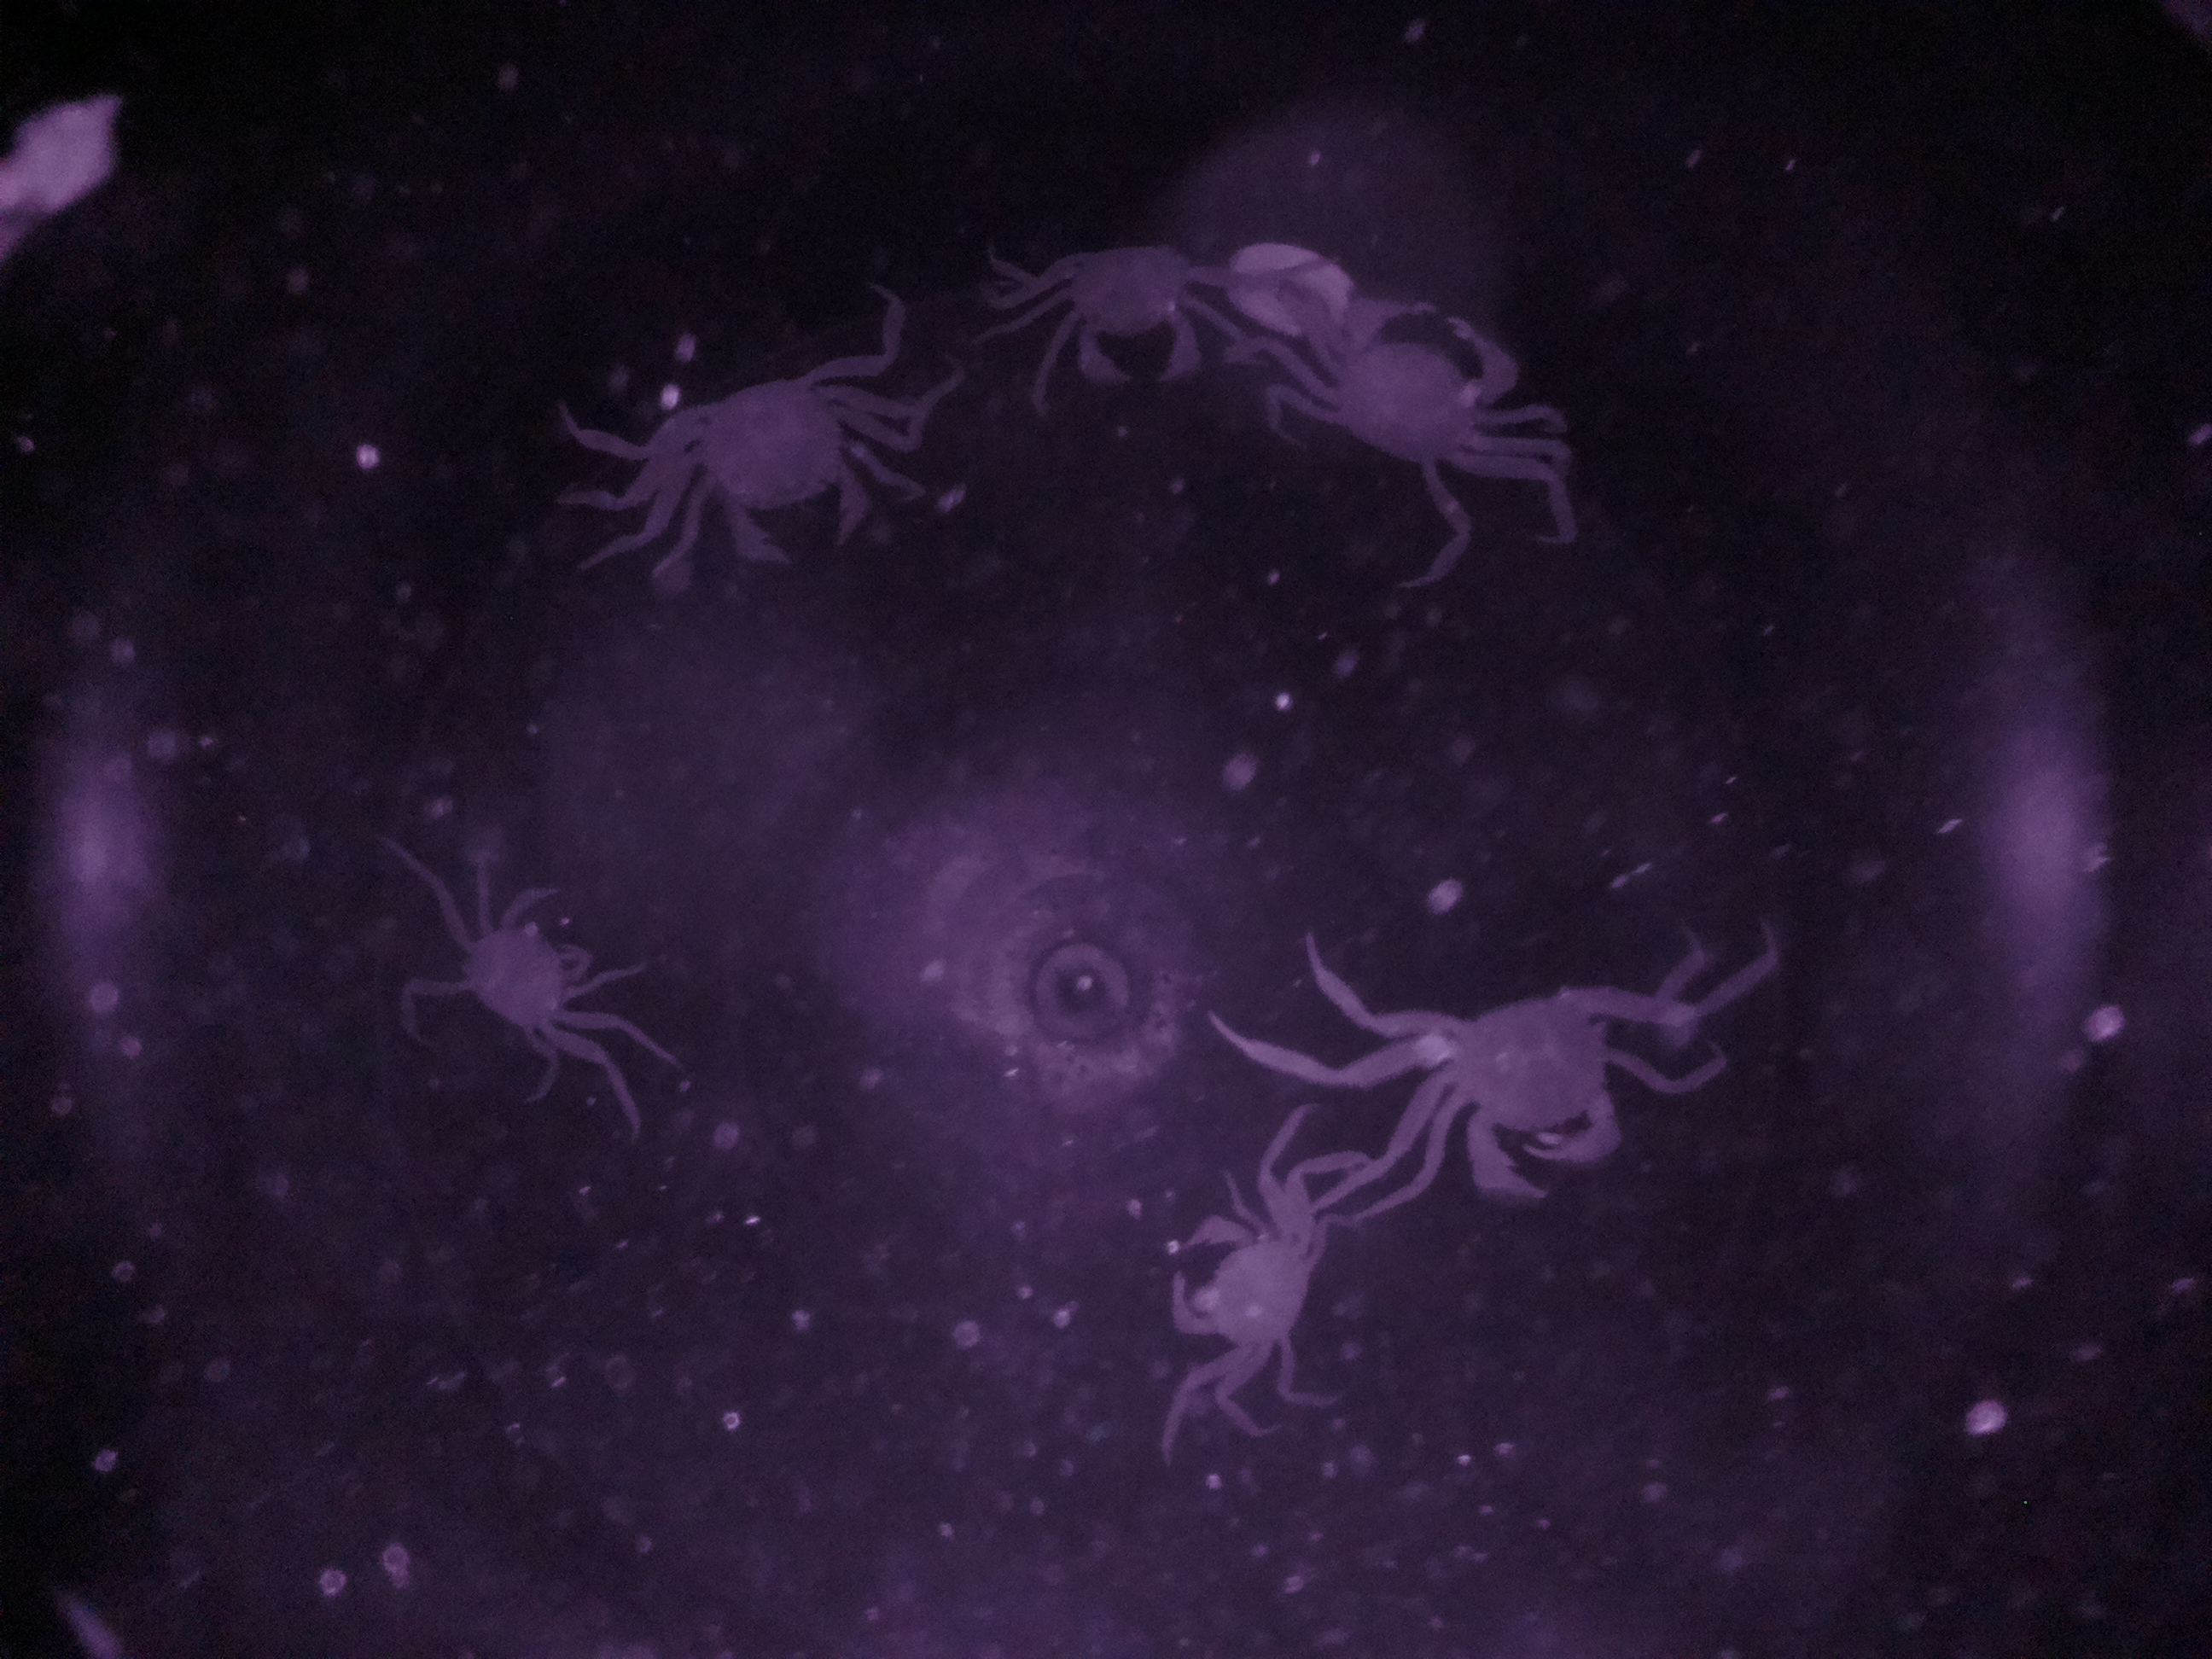Crab: (1372, 964, 1684, 1202), (620, 359, 902, 591), (1285, 282, 1534, 490), (425, 861, 637, 1073), (1148, 1173, 1338, 1387), (1019, 232, 1233, 403)
